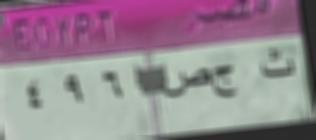4: (20, 75, 49, 120)
6: (100, 67, 130, 105)
9: (60, 72, 88, 109)
jeem: (214, 61, 242, 103)
saad: (161, 68, 211, 99)
thaa: (257, 48, 302, 83)
